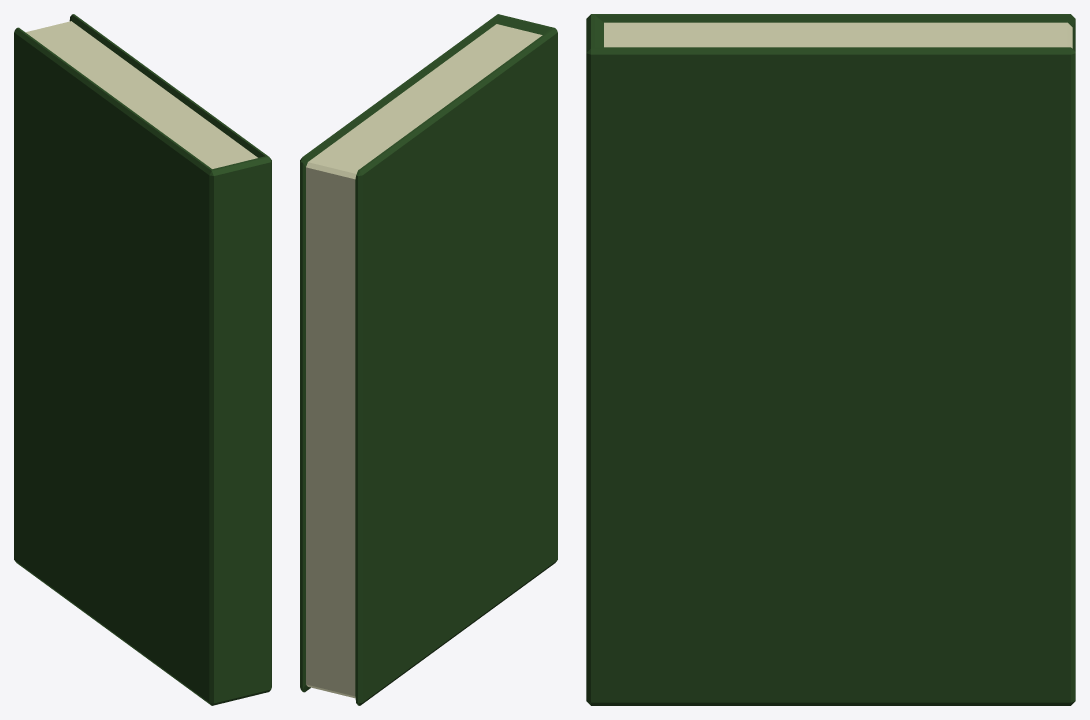
The model's file is BOOK_05.fbx.
The picture shows the model from 3 angles, left to right: view 1: azimuth 30°, elevation 25°; view 2: azimuth 150°, elevation 25°; view 3: azimuth 270°, elevation 25°; orthographic projection. The views are drawn at different scales.
Parts seen in each view (by area): view 1: BOOK_05; view 2: BOOK_05; view 3: BOOK_05.
Part boxes in pixels (x1,y1,x2,y2): BOOK_05: (14, 14, 271, 705); BOOK_05: (300, 14, 557, 705); BOOK_05: (586, 14, 1075, 705).
Size of the model in its own units: 1.1 by 8.99 by 6.06.
